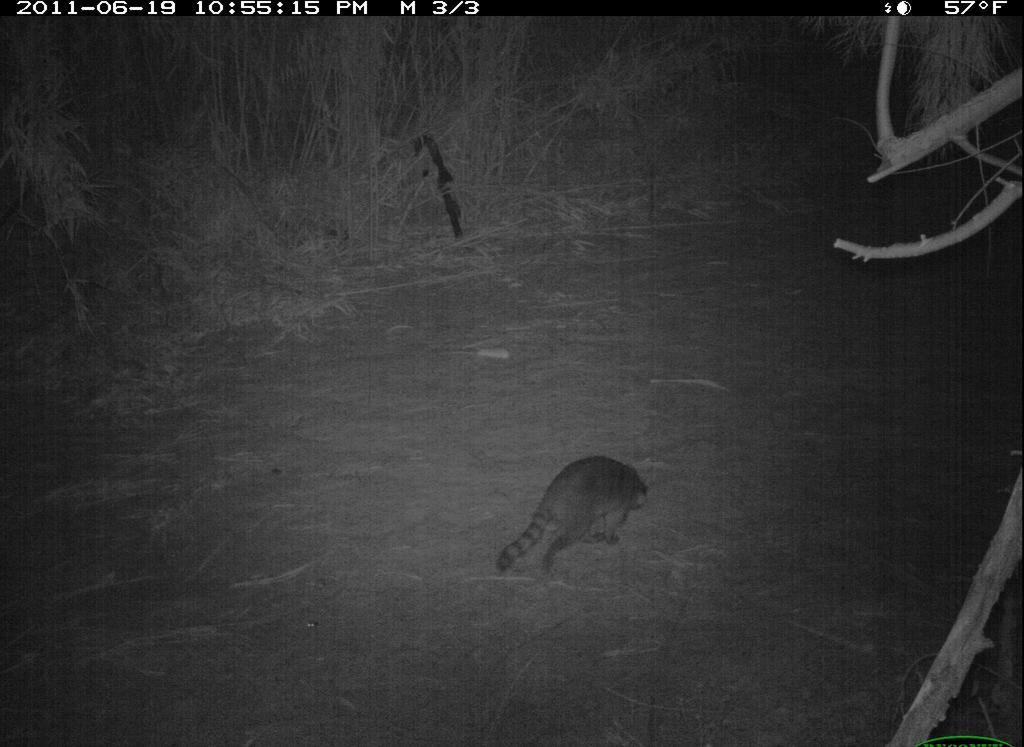raccoon: (486, 445, 661, 585)
